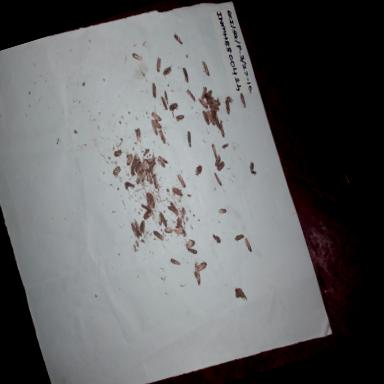pbw: (128, 218, 142, 244), (152, 54, 166, 74), (167, 100, 182, 118), (132, 124, 145, 144), (150, 172, 163, 192), (183, 128, 195, 149), (192, 160, 206, 178), (158, 208, 170, 228), (158, 128, 170, 148), (215, 116, 227, 136), (238, 90, 250, 110), (200, 58, 212, 78), (175, 170, 187, 190), (200, 108, 212, 128), (222, 98, 234, 118), (170, 183, 184, 200), (186, 243, 200, 260), (196, 95, 210, 112), (152, 228, 165, 246), (127, 160, 140, 178), (197, 84, 210, 102), (192, 268, 204, 287), (160, 63, 175, 78), (128, 151, 142, 167), (130, 48, 144, 64), (172, 216, 186, 232), (110, 162, 124, 178), (143, 166, 154, 186), (242, 235, 254, 253), (148, 80, 160, 98), (158, 94, 170, 112), (156, 153, 168, 171), (149, 109, 163, 124), (196, 260, 210, 275), (172, 30, 184, 47), (247, 160, 258, 178), (133, 220, 144, 238), (123, 153, 137, 167), (144, 158, 158, 172), (150, 116, 162, 132), (136, 218, 148, 234), (132, 158, 144, 174), (182, 238, 198, 250), (214, 159, 227, 173), (160, 224, 174, 237), (212, 153, 224, 168), (180, 66, 190, 84), (150, 120, 160, 138), (170, 200, 180, 218), (192, 258, 202, 276), (146, 192, 156, 210), (206, 108, 216, 126), (209, 140, 219, 158), (185, 87, 196, 103), (211, 230, 222, 246), (161, 89, 171, 106), (212, 170, 222, 187), (143, 190, 153, 207), (158, 153, 170, 167), (224, 93, 236, 107), (122, 178, 136, 190), (177, 206, 189, 220), (173, 225, 187, 237), (134, 170, 144, 186), (169, 255, 181, 268), (208, 101, 220, 114), (174, 112, 187, 124), (112, 147, 124, 160), (210, 110, 220, 125), (233, 230, 245, 242), (213, 116, 222, 132), (140, 200, 152, 212), (210, 96, 222, 108), (140, 146, 152, 158), (138, 158, 150, 170), (154, 213, 164, 227), (138, 168, 148, 181), (204, 87, 214, 100), (142, 210, 154, 220), (204, 95, 216, 105), (220, 141, 231, 151), (217, 206, 228, 216), (146, 155, 156, 165), (166, 204, 176, 214)
